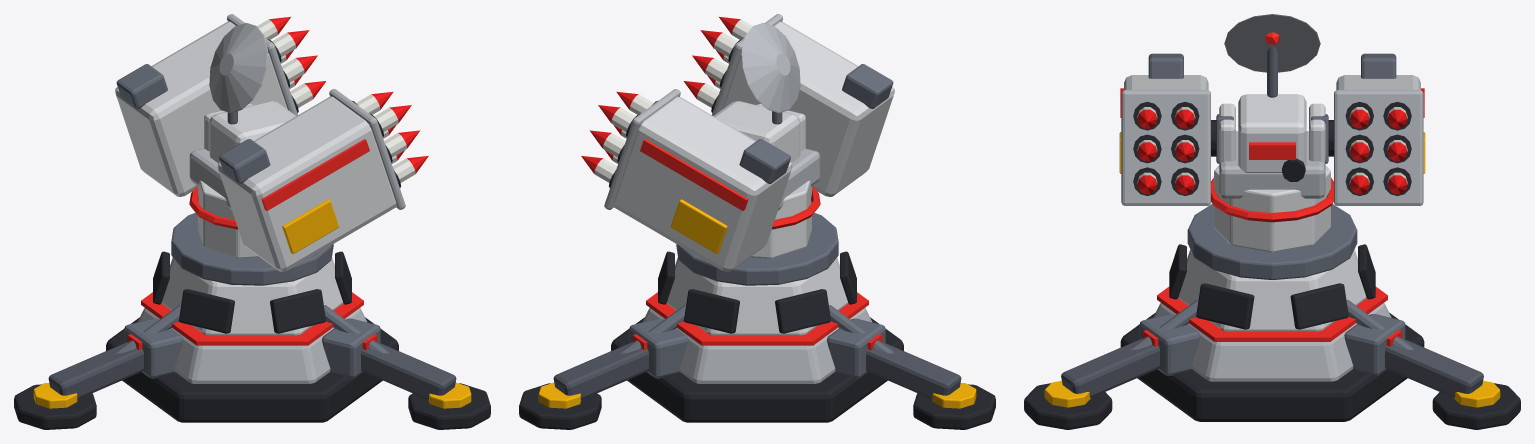
File: torreta_misiles.glb
The picture shows the model from 3 angles, left to right: view 1: azimuth 30°, elevation 25°; view 2: azimuth 150°, elevation 25°; view 3: azimuth 270°, elevation 25°; orthographic projection. The views are drawn at different scales.
Visible parts, largest first — view 1: Base, Barrel, Pivot; view 2: Base, Barrel, Pivot; view 3: Base, Pivot, Barrel.
Boxes of the visible parts, x1,y1,x2,y2 form: Base: (14, 251, 490, 429); Barrel: (115, 14, 428, 271); Pivot: (171, 22, 333, 285); Base: (519, 251, 995, 429); Barrel: (581, 14, 894, 271); Pivot: (676, 22, 838, 285); Base: (1024, 244, 1520, 429); Pivot: (1187, 14, 1357, 279); Barrel: (1119, 53, 1425, 205).
Size of the model in its own units: 3.75 by 3.33 by 4.21.
1 material, 1 textured.
